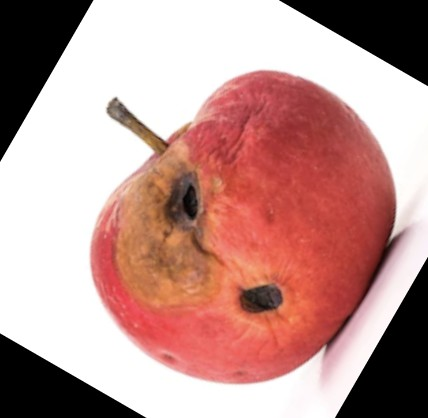rotten_apple: (90, 68, 398, 383)
